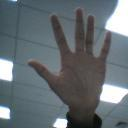hand: (28, 7, 113, 108)
